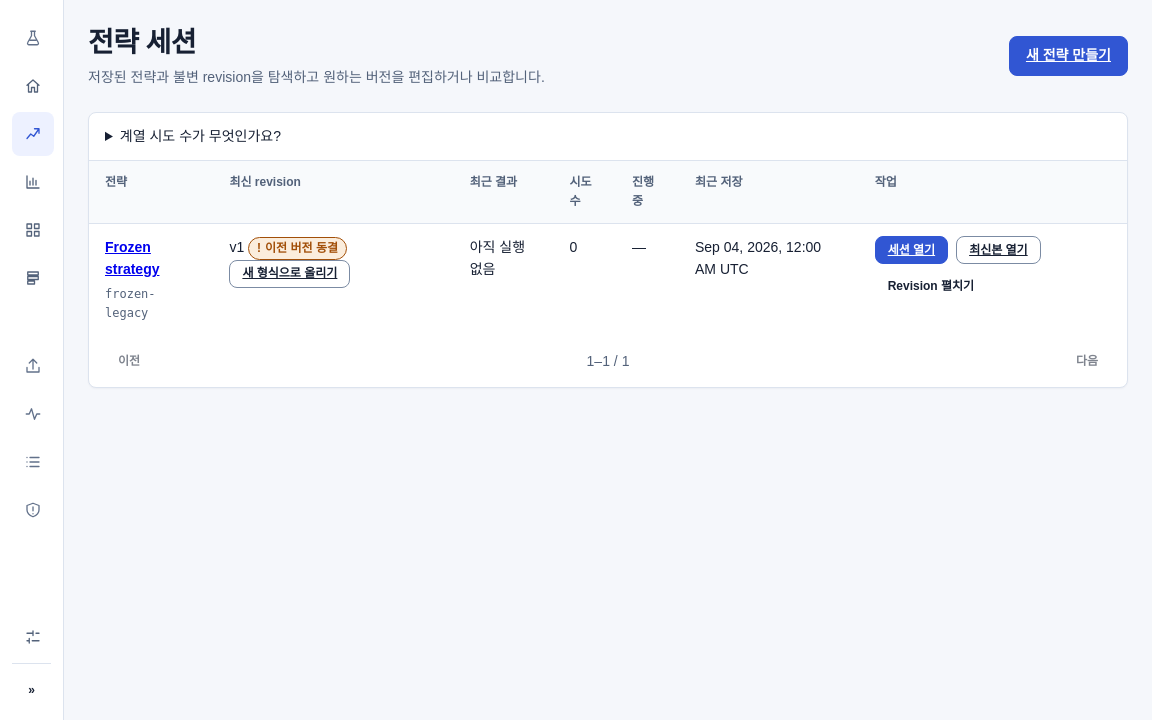
Test case: App Shell routes › marks frozen schema 1.0 strategies and revisions in the history lists
Expected: the text "이전 버전 동결" is shown, left=265, top=241, right=338, bottom=255
Click the button with aria-label "Revision 펼치기: Frozen strategy (frozen-legacy)" at (931, 286), box left=875, top=272, right=987, bottom=300
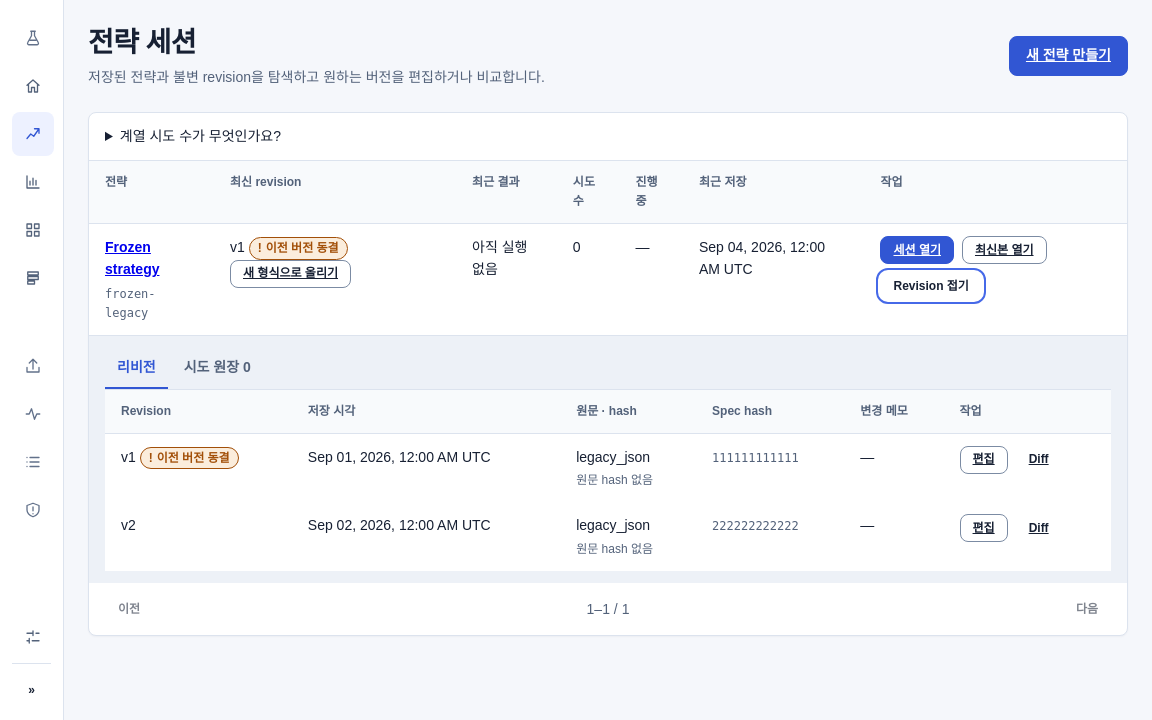
Expected: the text "이전 버전 동결" next to "Sep 01, 2026, 12:00 AM UTC" is shown, left=157, top=451, right=230, bottom=465
